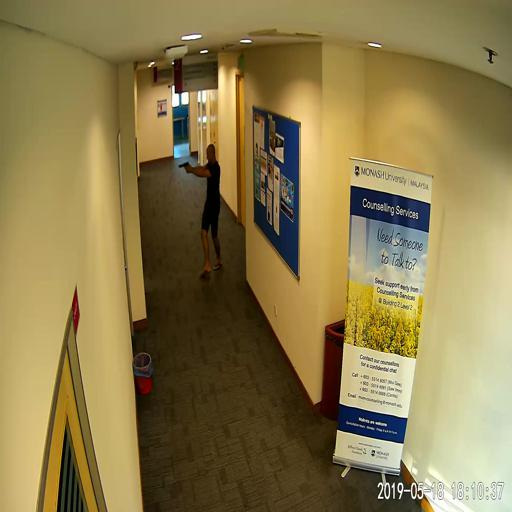Handgun: (177, 160, 188, 172)
